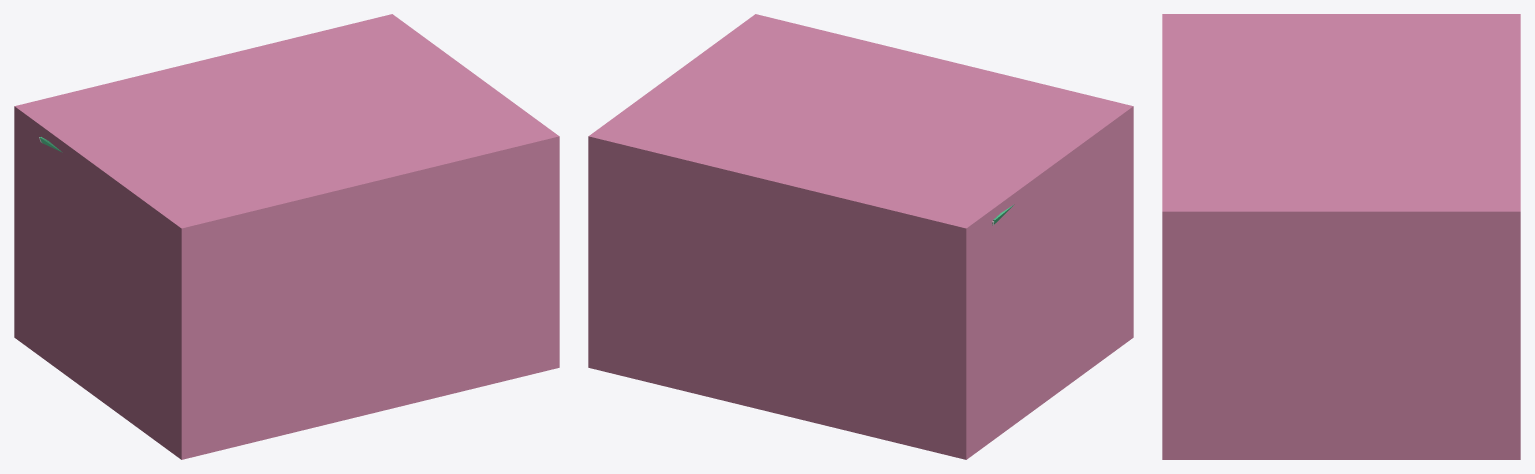
The model's file is ind_bld_tin_01_a.dae.
The picture shows the model from 3 angles, left to right: view 1: azimuth 30°, elevation 25°; view 2: azimuth 150°, elevation 25°; view 3: azimuth 270°, elevation 25°; orthographic projection. The views are drawn at different scales.
Visible parts, largest first — view 1: Untitled; view 2: Untitled; view 3: Untitled.
Part boxes in pixels (bbox=[...]): Untitled: bbox=[14, 14, 559, 459]; Untitled: bbox=[588, 14, 1133, 459]; Untitled: bbox=[1162, 14, 1520, 459].
Bounding box in the file's own units: 14.76 × 11.25 × 8.6.
